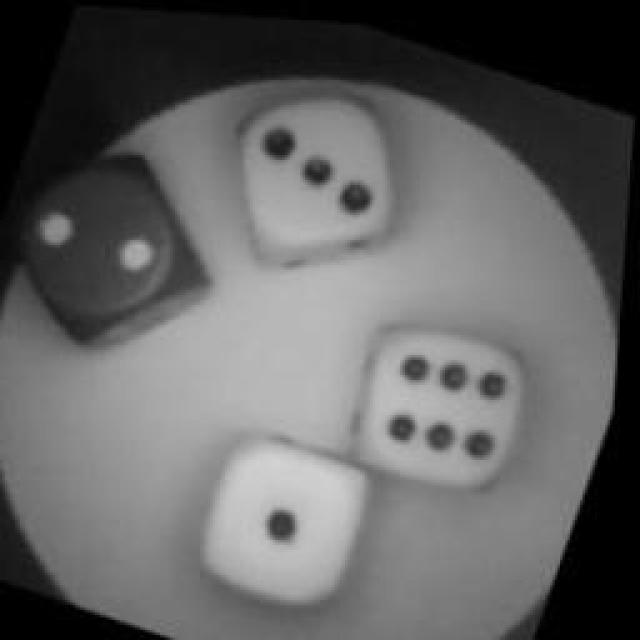dice_1: (183, 402, 405, 622)
dice_2: (0, 124, 250, 378)
dice_3: (219, 56, 429, 279)
dice_6: (333, 294, 565, 506)
